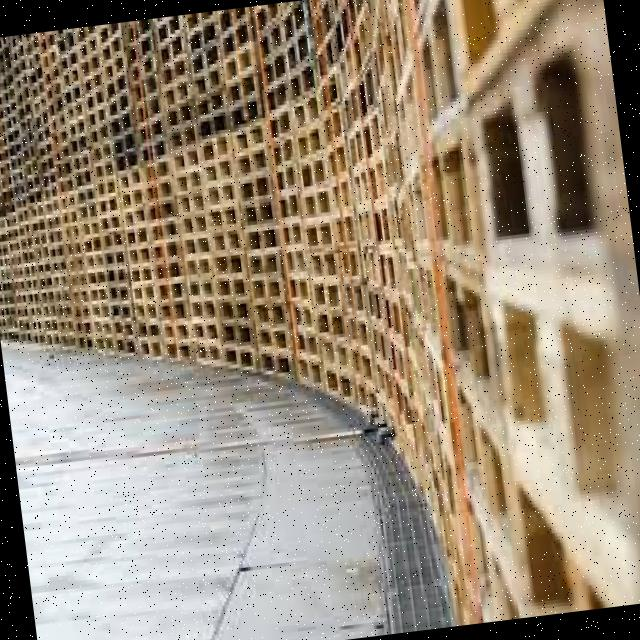Wooden-Pallets: (225, 118, 265, 161), (121, 237, 160, 272), (165, 161, 203, 196), (237, 193, 275, 227), (158, 315, 189, 342)
